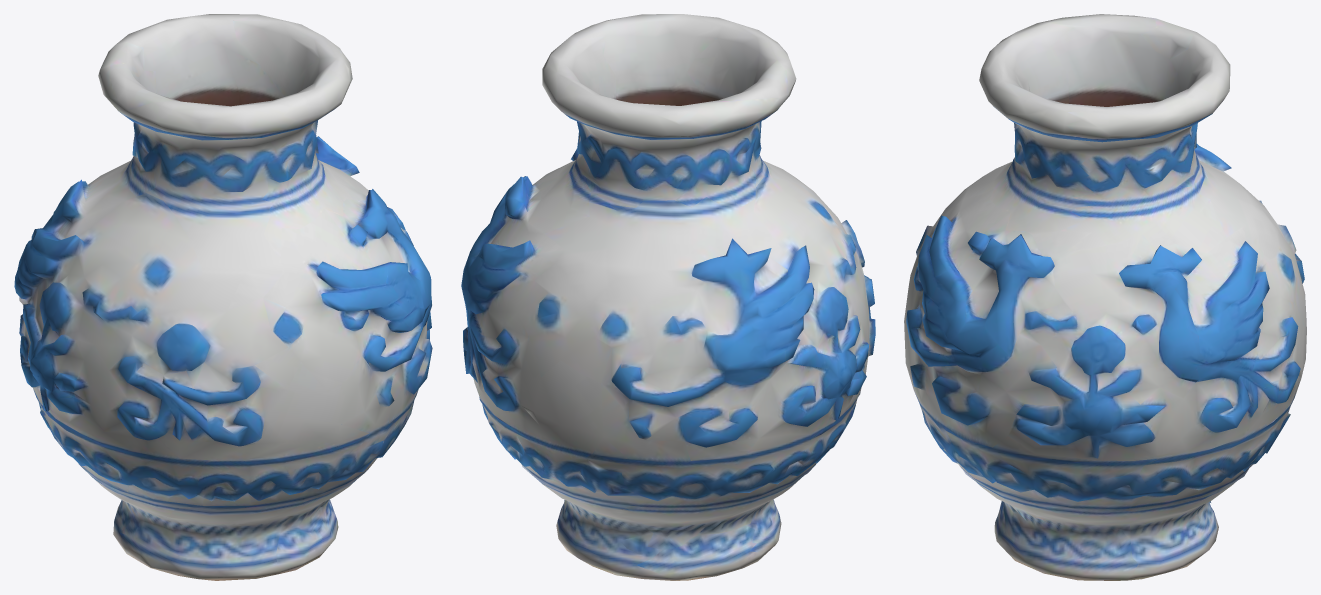
File: vase.glb
3 views of the same model, side by side, from view 1: azimuth 30°, elevation 25°; view 2: azimuth 150°, elevation 25°; view 3: azimuth 270°, elevation 25° (orthographic).
Parts seen in each view (by area): view 1: tripo_node_795a027a-0a4c-4cf5-8a9a-5f7b68b022e3; view 2: tripo_node_795a027a-0a4c-4cf5-8a9a-5f7b68b022e3; view 3: tripo_node_795a027a-0a4c-4cf5-8a9a-5f7b68b022e3.
Part boxes in pixels (x1,y1,x2,y2): tripo_node_795a027a-0a4c-4cf5-8a9a-5f7b68b022e3: (14, 14, 432, 580); tripo_node_795a027a-0a4c-4cf5-8a9a-5f7b68b022e3: (461, 14, 875, 580); tripo_node_795a027a-0a4c-4cf5-8a9a-5f7b68b022e3: (904, 14, 1306, 580).
Bounding box in the file's own units: 0.205 × 0.25 × 0.1919.
Materials: 1 (1 with a texture image).
